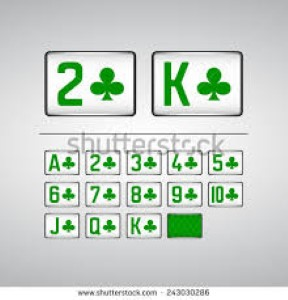NineOfClubs: (164, 181, 204, 208)
